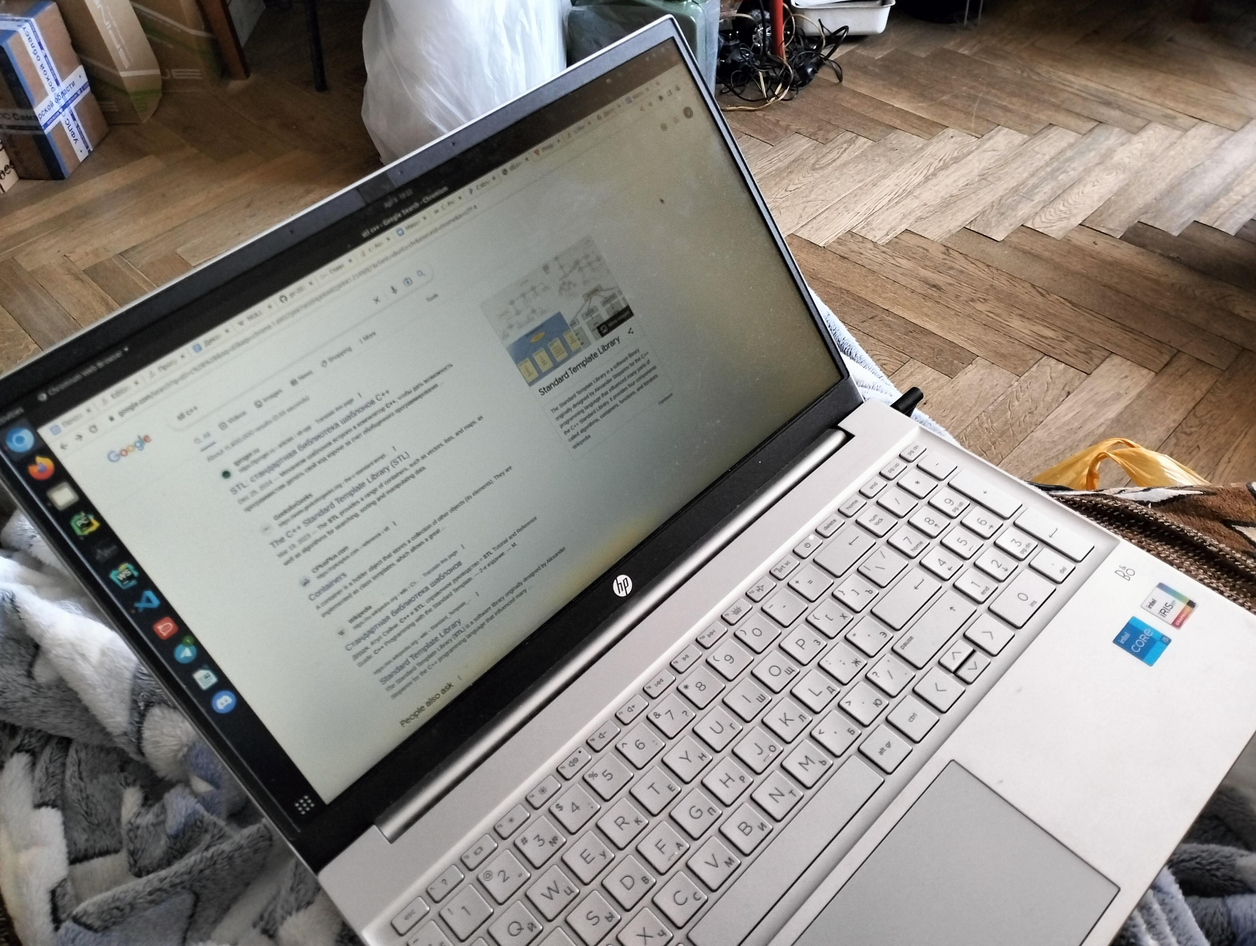monitor: (0, 5, 867, 881)
